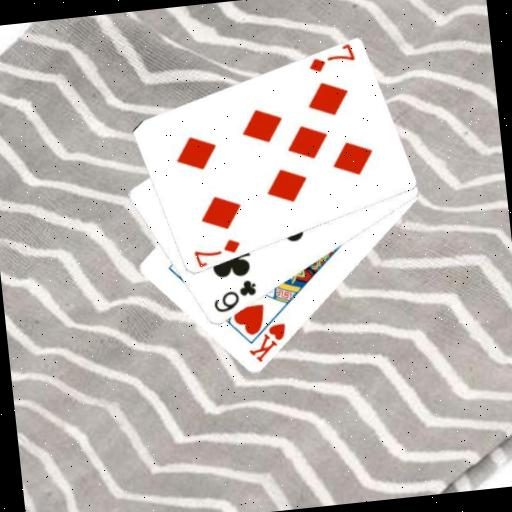6C: (208, 276, 260, 316)
7D: (190, 236, 244, 269), (304, 43, 358, 76)
KH: (243, 320, 291, 366)
